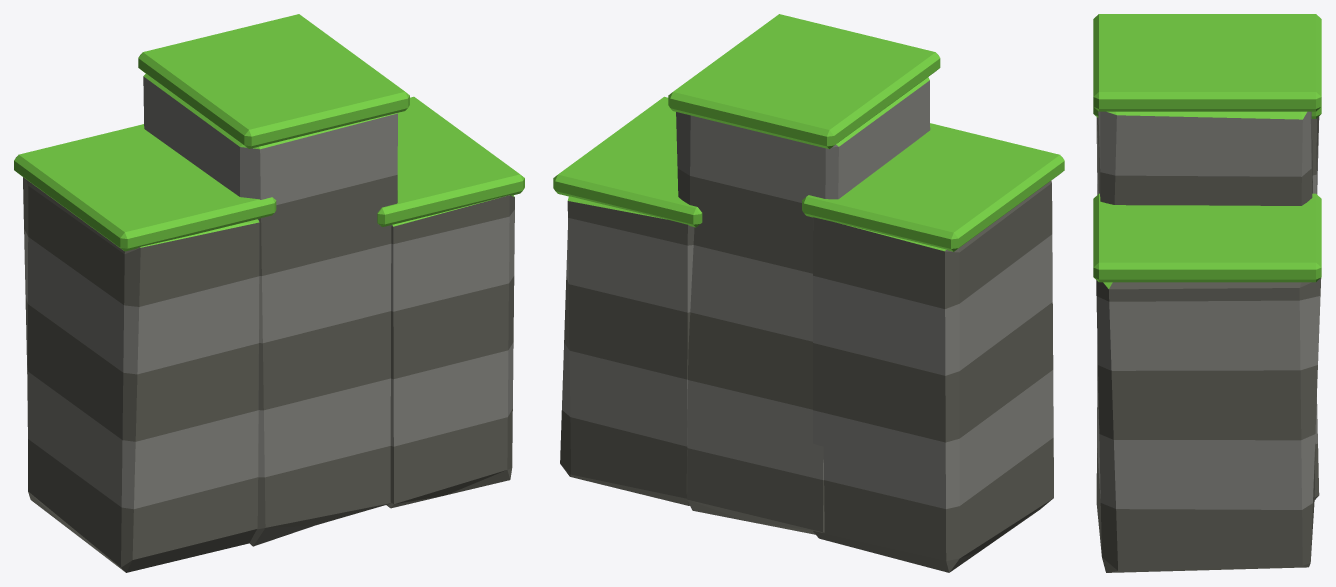
Rendered from Cliff.fbx.
3 renders of one model, left to right at view 1: azimuth 30°, elevation 25°; view 2: azimuth 150°, elevation 25°; view 3: azimuth 270°, elevation 25°, orthographic. The views are drawn at different scales.
Parts seen in each view (by area): view 1: Cliff; view 2: Cliff; view 3: Cliff.
Boxes of the visible parts, x1,y1,x2,y2 form: Cliff: (14,14,524,572); Cliff: (553,14,1064,572); Cliff: (1093,14,1321,572).
Size of the model in its own units: 8.8 by 8.79 by 4.2.
Materials: 1 (1 with a texture image).
